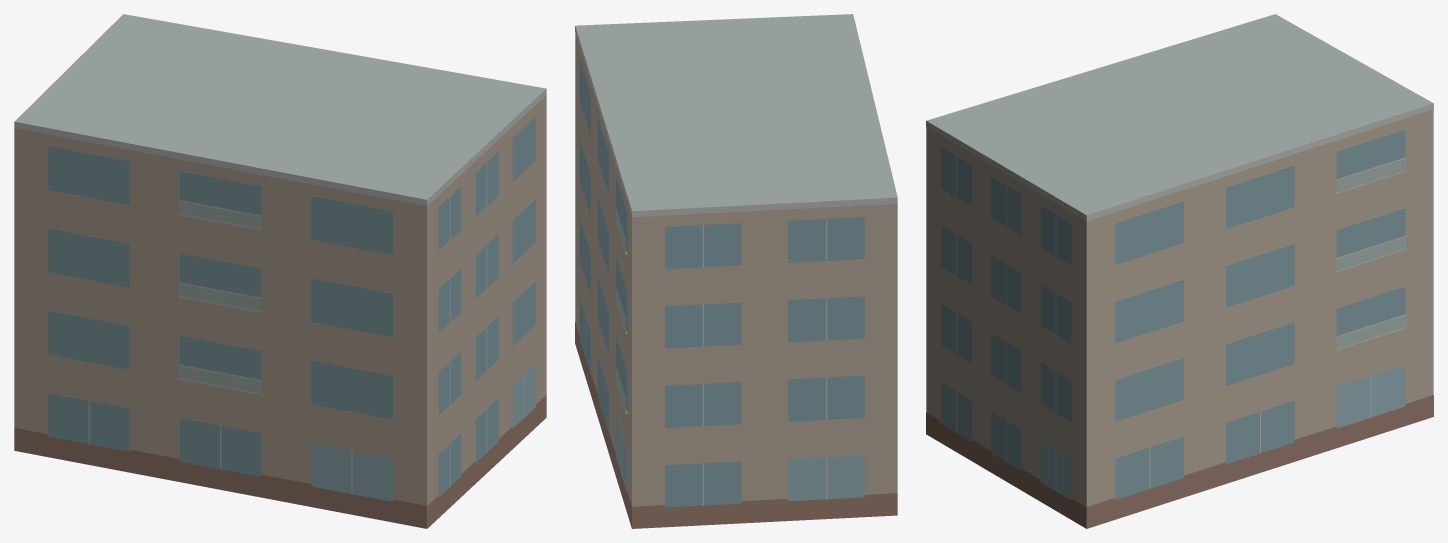
Rendered from survey-upis-32815530.glb.
3 views of the same model, side by side, from view 1: azimuth 30°, elevation 25°; view 2: azimuth 150°, elevation 25°; view 3: azimuth 270°, elevation 25° (orthographic). The views are drawn at different scales.
Visible parts, largest first — view 1: survey-upis-32815530.tmp; view 2: survey-upis-32815530.tmp; view 3: survey-upis-32815530.tmp.
Part boxes in pixels (x1,y1,x2,y2): survey-upis-32815530.tmp: [14, 14, 546, 528]; survey-upis-32815530.tmp: [575, 14, 897, 528]; survey-upis-32815530.tmp: [926, 14, 1433, 528].
Size of the model in its own units: 17.5 by 12.7 by 18.64.
